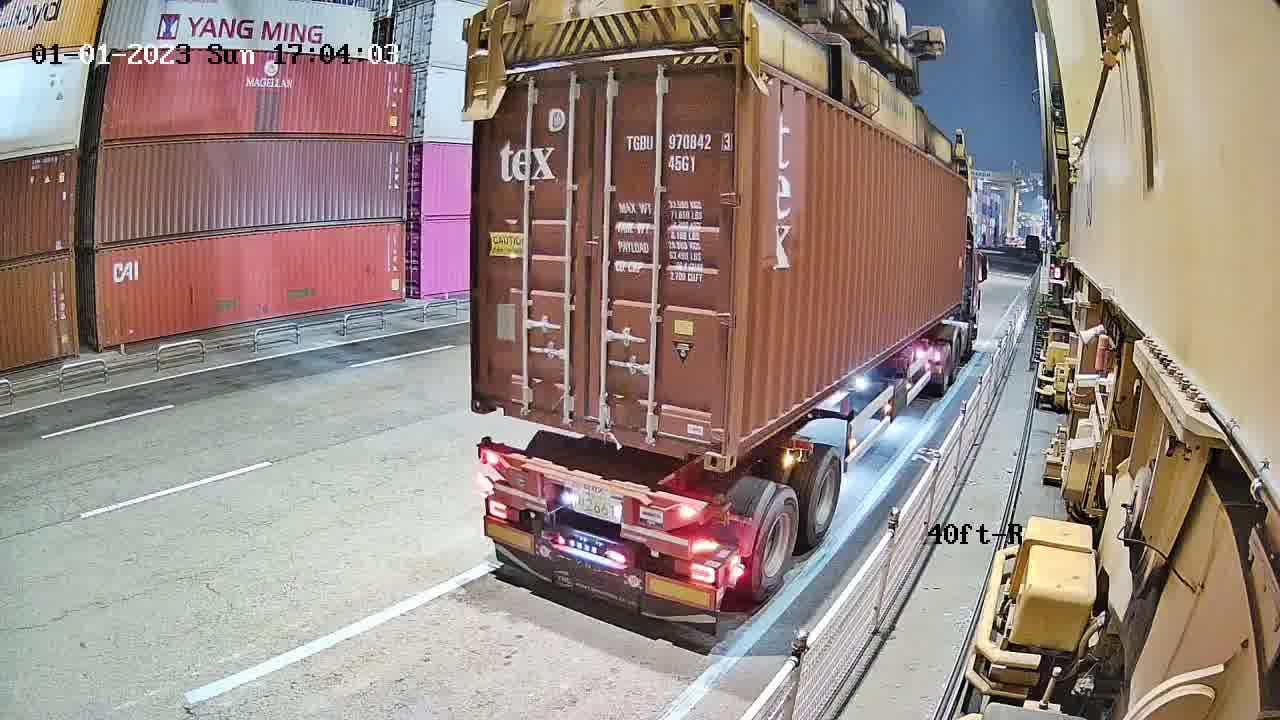Chassis: (479, 445, 708, 532)
Cone: (706, 493, 729, 532), (475, 431, 495, 468)
Hole_L: (725, 413, 753, 471), (469, 379, 505, 419)
Hole_R: (684, 423, 727, 471)
Tire: (751, 491, 799, 594), (806, 458, 843, 544)
